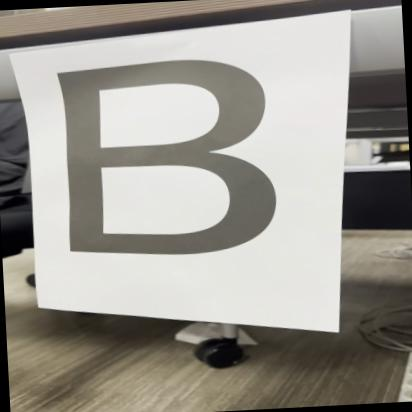seat: (31, 46, 313, 288)
